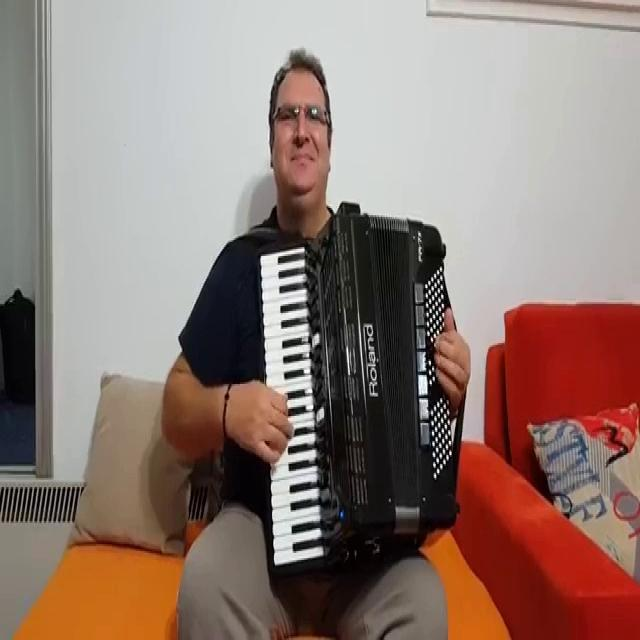Accordion: (255, 209, 458, 559)
